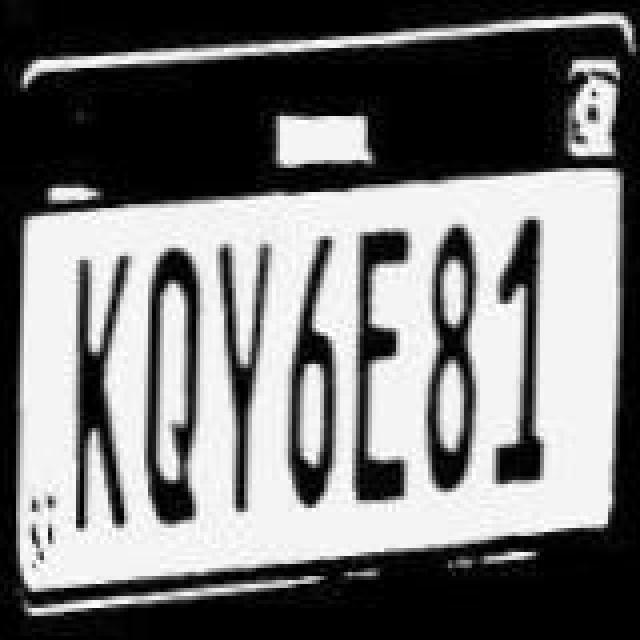1: (490, 214, 562, 490)
6: (286, 232, 350, 512)
8: (424, 220, 484, 496)
E: (356, 226, 424, 514)
K: (66, 238, 142, 530)
Q: (140, 242, 212, 530)
Y: (214, 232, 286, 516)
